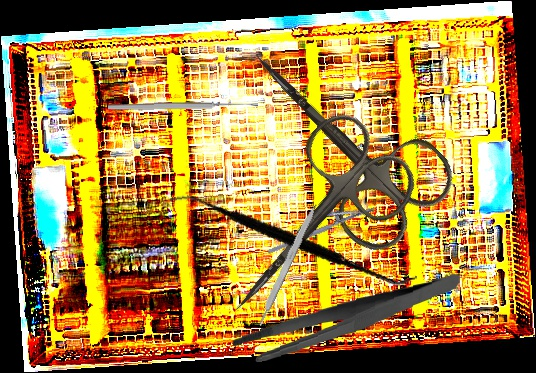Dressing Forceps: (228, 273, 465, 364)
Iris Scissors: (213, 9, 465, 265), (189, 102, 429, 349)
Needle Holder: (261, 192, 377, 255)
Scalpel Handle: (253, 201, 320, 328)
Spatula Surgical: (169, 151, 418, 326)
Surgical Spoon: (107, 100, 259, 112)
